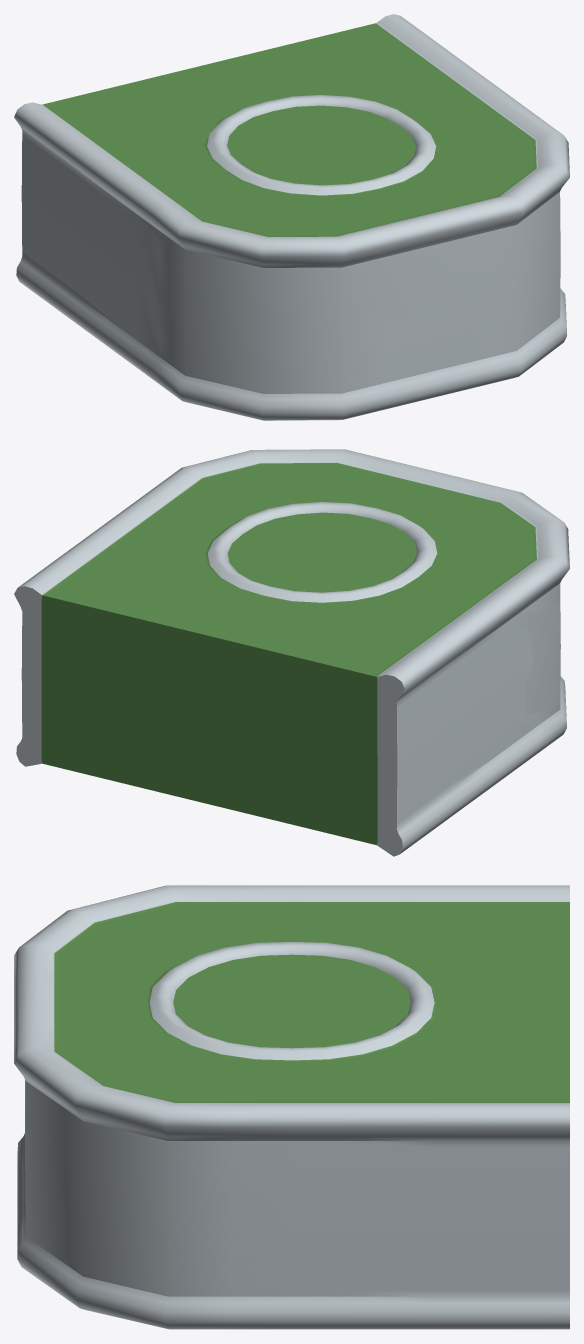
Rendered from Platforms3Cornered.fbx.
3 renders of one model, top to bottom at view 1: azimuth 30°, elevation 25°; view 2: azimuth 150°, elevation 25°; view 3: azimuth 270°, elevation 25°, orthographic. The views are drawn at different scales.
Visible parts, largest first — view 1: Platform3Cornered_Hole, Platform3Cornered; view 2: Platform3Cornered_Hole, Platform3Cornered; view 3: Platform3Cornered_Hole, Platform3Cornered.
Boxes of the visible parts, <box> form: Platform3Cornered_Hole: <box>14,14,569,420</box>; Platform3Cornered: <box>71,44,555,419</box>; Platform3Cornered_Hole: <box>14,449,569,856</box>; Platform3Cornered: <box>76,449,569,823</box>; Platform3Cornered_Hole: <box>14,885,569,1329</box>; Platform3Cornered: <box>18,885,569,1329</box>.
Size of the model in its own units: 167 by 73.64 by 167.
